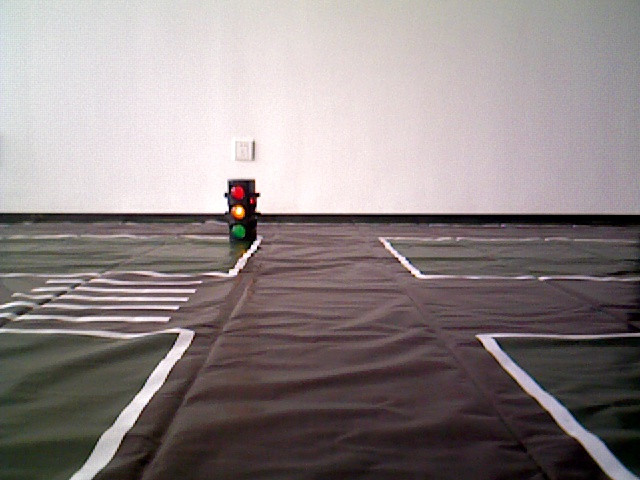yellow: (228, 180, 255, 246)
